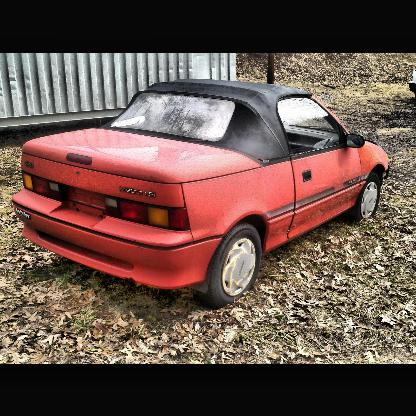Geo Metro Convertible 1993: (11, 77, 391, 308)
